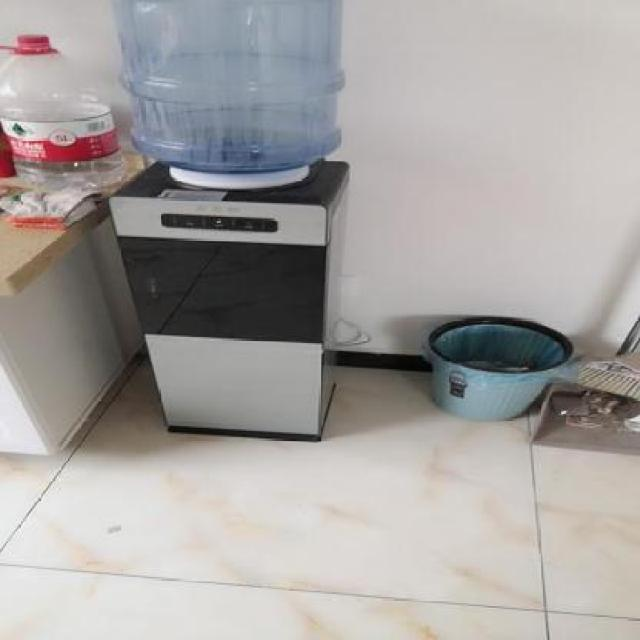cooler: (97, 0, 355, 445)
